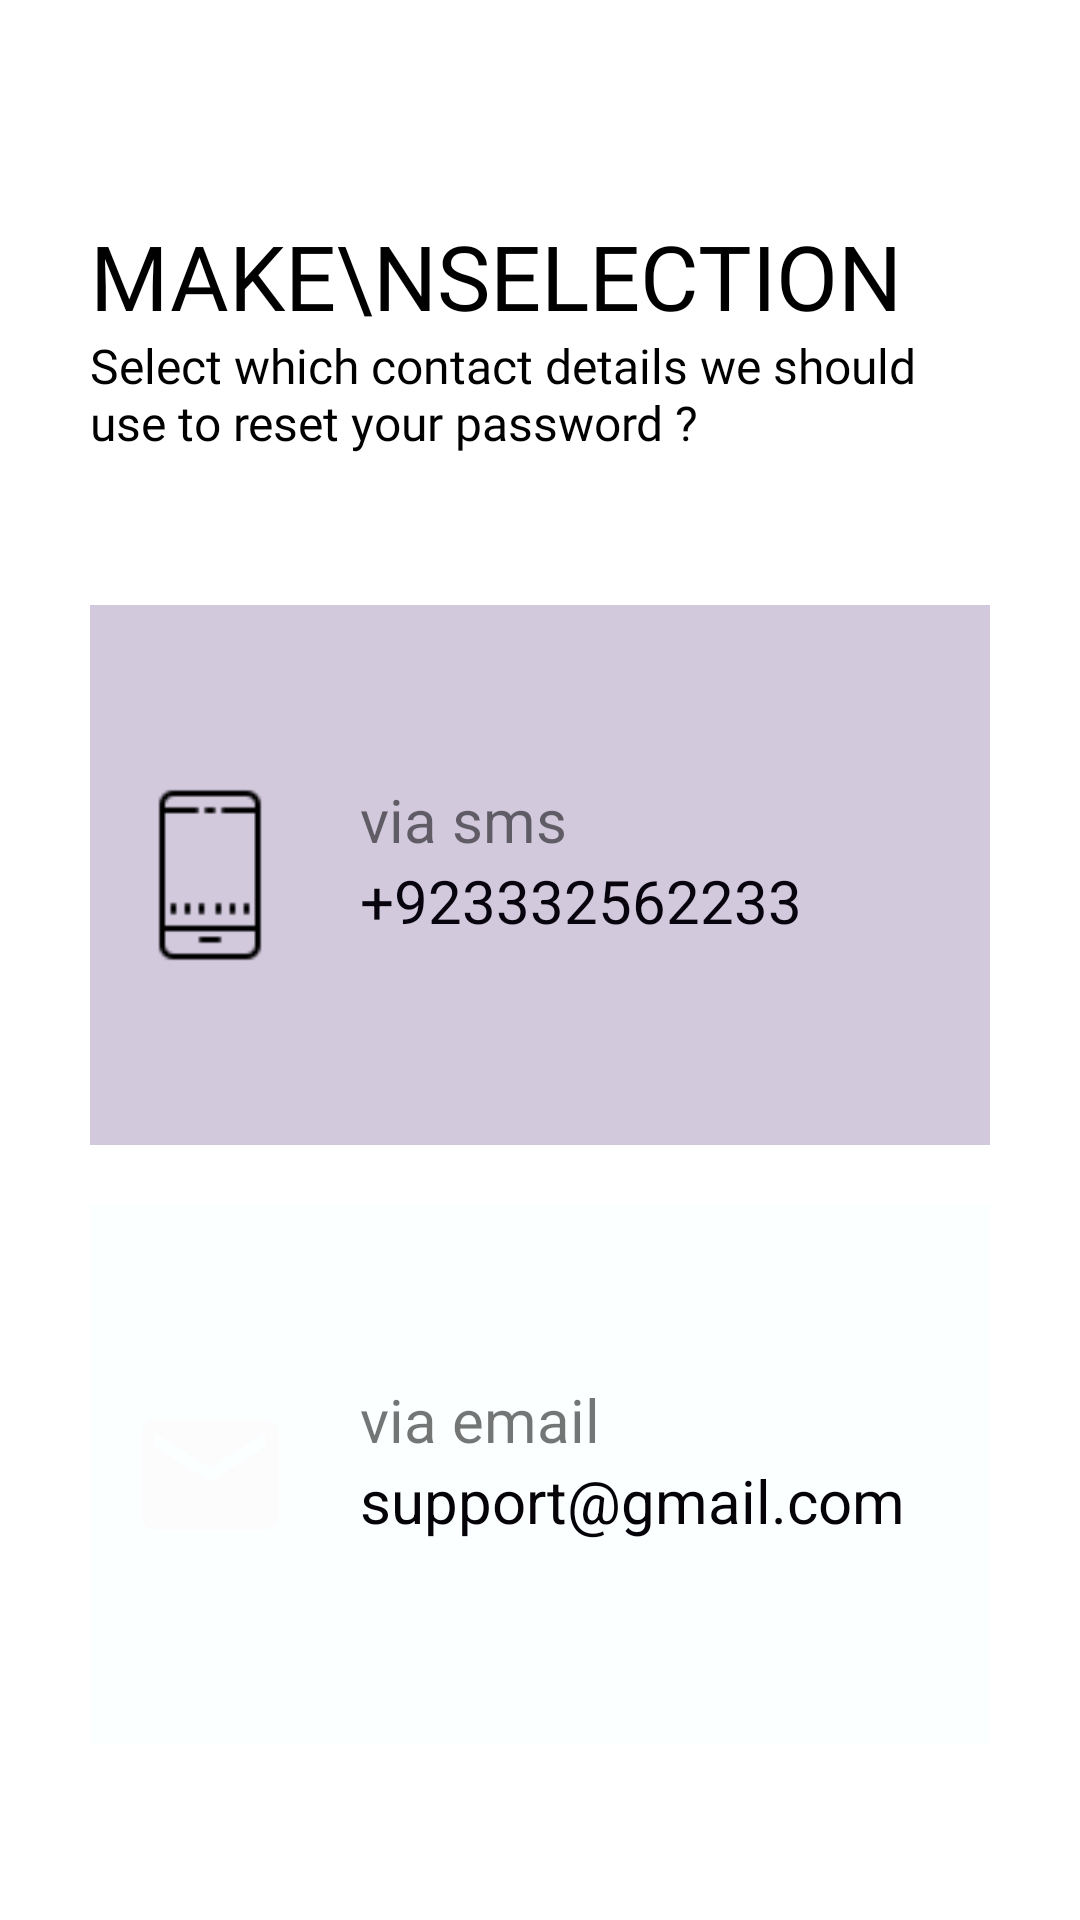

Icon bounding boxes for this 1080×1920 phone screenshot, format (x1, y1, x2, y2):
mobile custom: (158, 790, 262, 960)
